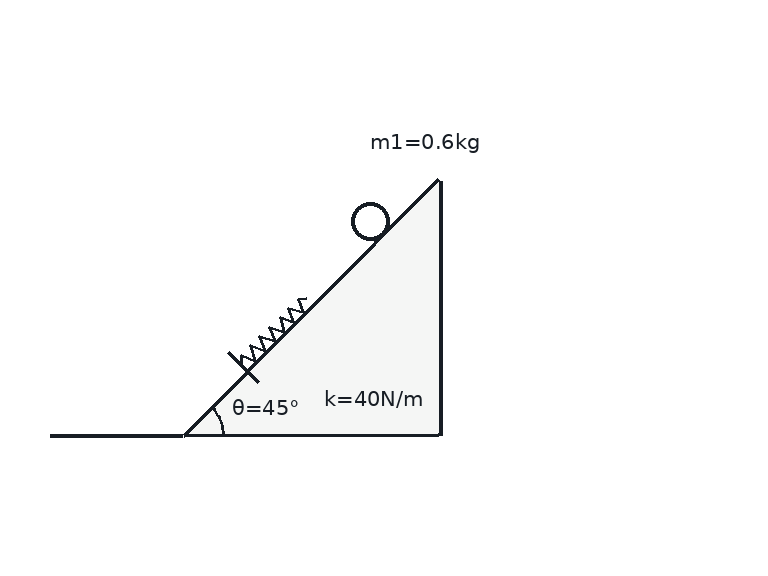ball: (349, 200, 391, 242)
ramp: (181, 177, 441, 437)
spring: (238, 296, 309, 367)
